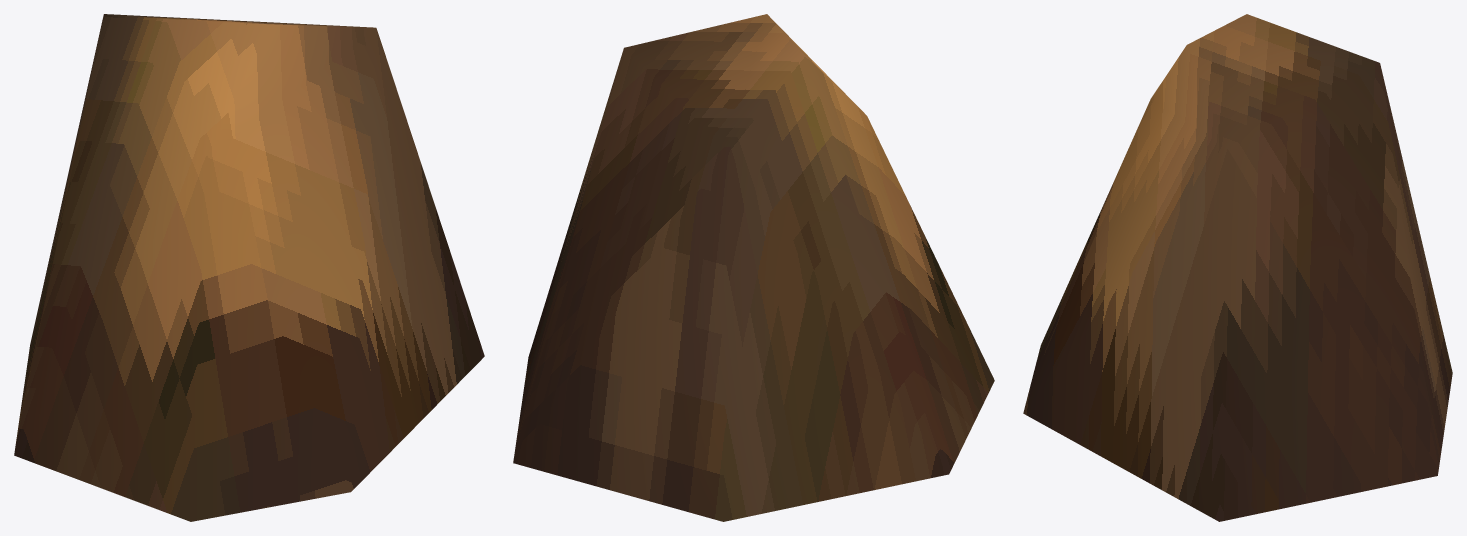
File: termite_rock02.obj
3 renders of one model, left to right at view 1: azimuth 30°, elevation 25°; view 2: azimuth 150°, elevation 25°; view 3: azimuth 270°, elevation 25°, orthographic. The views are drawn at different scales.
Visible parts, largest first — view 1: termite_rock02; view 2: termite_rock02; view 3: termite_rock02.
Boxes of the visible parts, x1=… form: termite_rock02: x1=14, y1=14, x2=484, y2=521; termite_rock02: x1=513, y1=14, x2=994, y2=521; termite_rock02: x1=1023, y1=14, x2=1452, y2=521.
Bounding box in the file's own units: 0.4819 × 0.4061 × 0.4247.
Materials: 1 (1 with a texture image).
